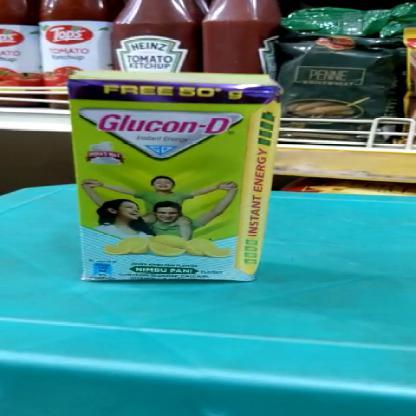Glucon D Nimbu Pani 1-KG: (67, 79, 274, 283)
